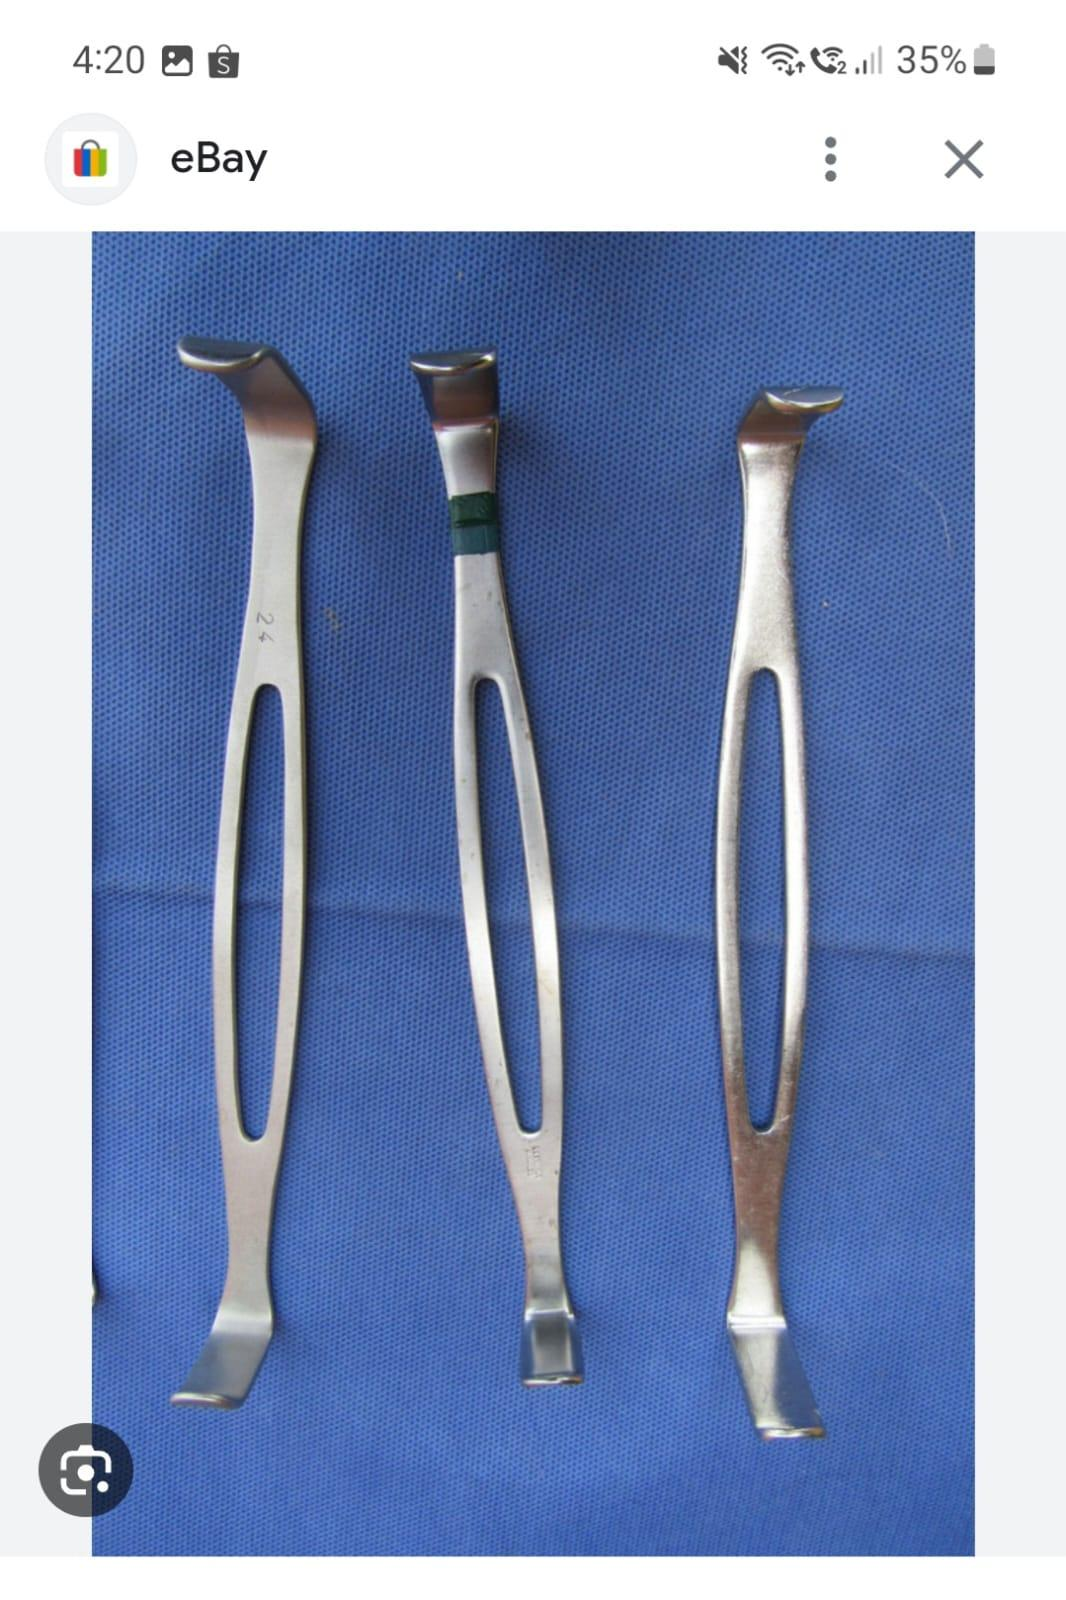Army Navy Retractor: (140, 303, 365, 1448), (392, 302, 612, 1412), (680, 368, 875, 1455)
